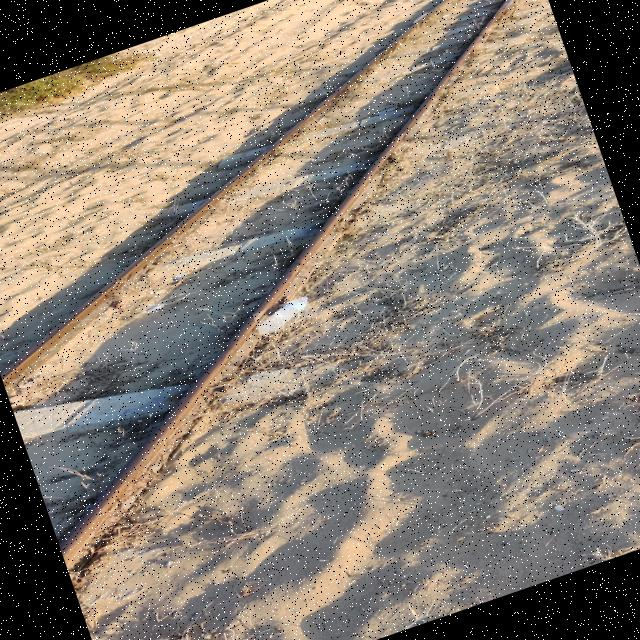Clear plastic bottle: (258, 297, 308, 332)
Unlabeled litter: (375, 105, 396, 115), (173, 272, 192, 280), (154, 303, 165, 308), (443, 14, 450, 17)
